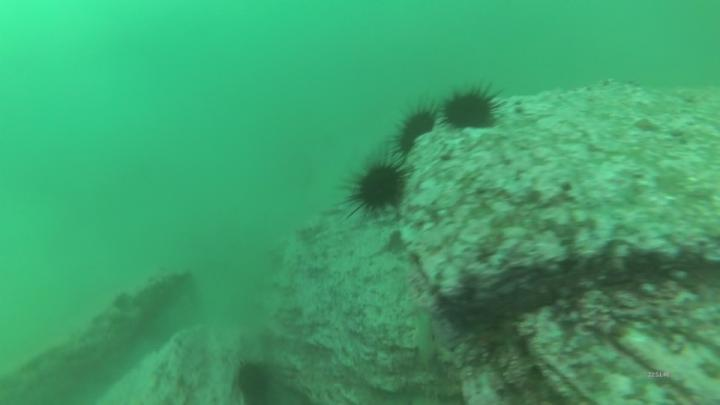echinus: (355, 166, 407, 210), (446, 92, 494, 129), (398, 110, 436, 150), (242, 367, 272, 401)
